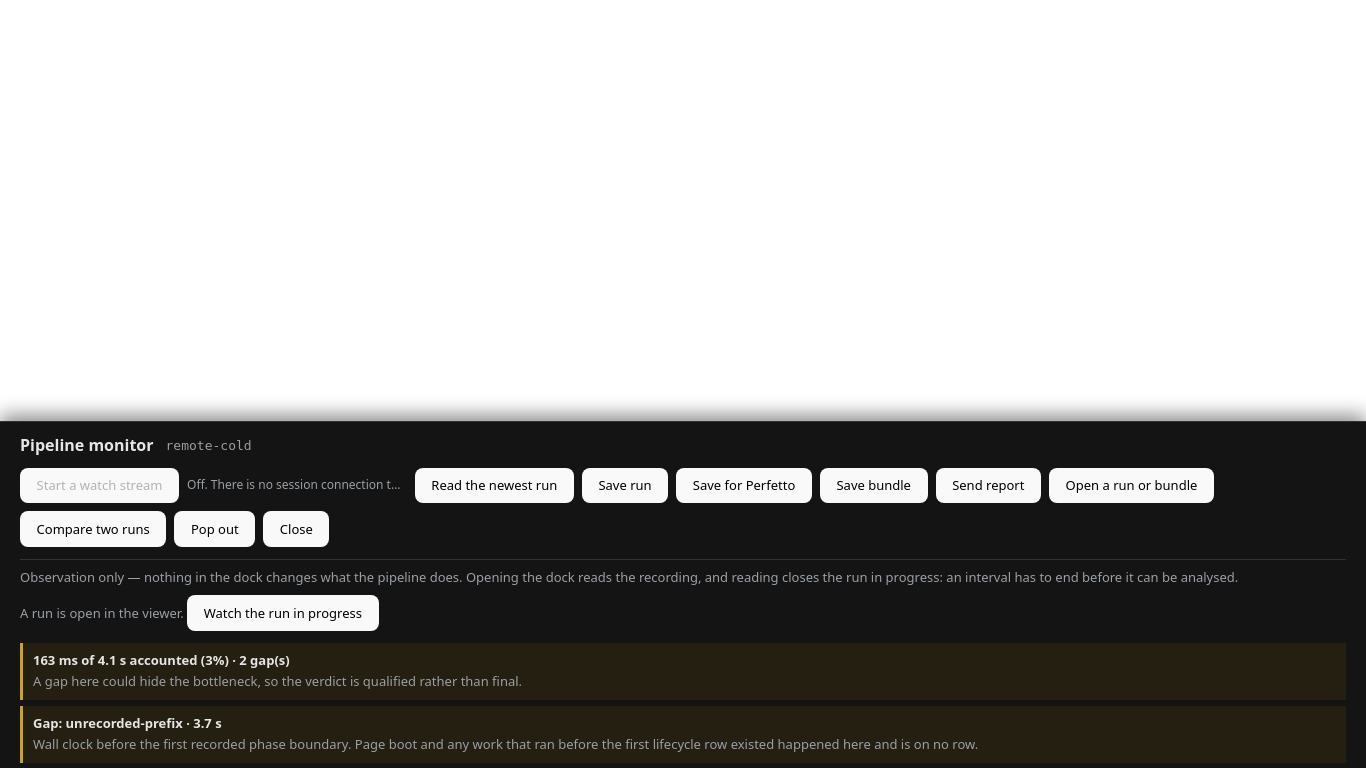
a run that is still open (#937) › offers a run that opens later rather than taking the page from a verdict
Click the button with test id "monitor-watch-next".
click(283, 613)  # box [187,595,378,631]
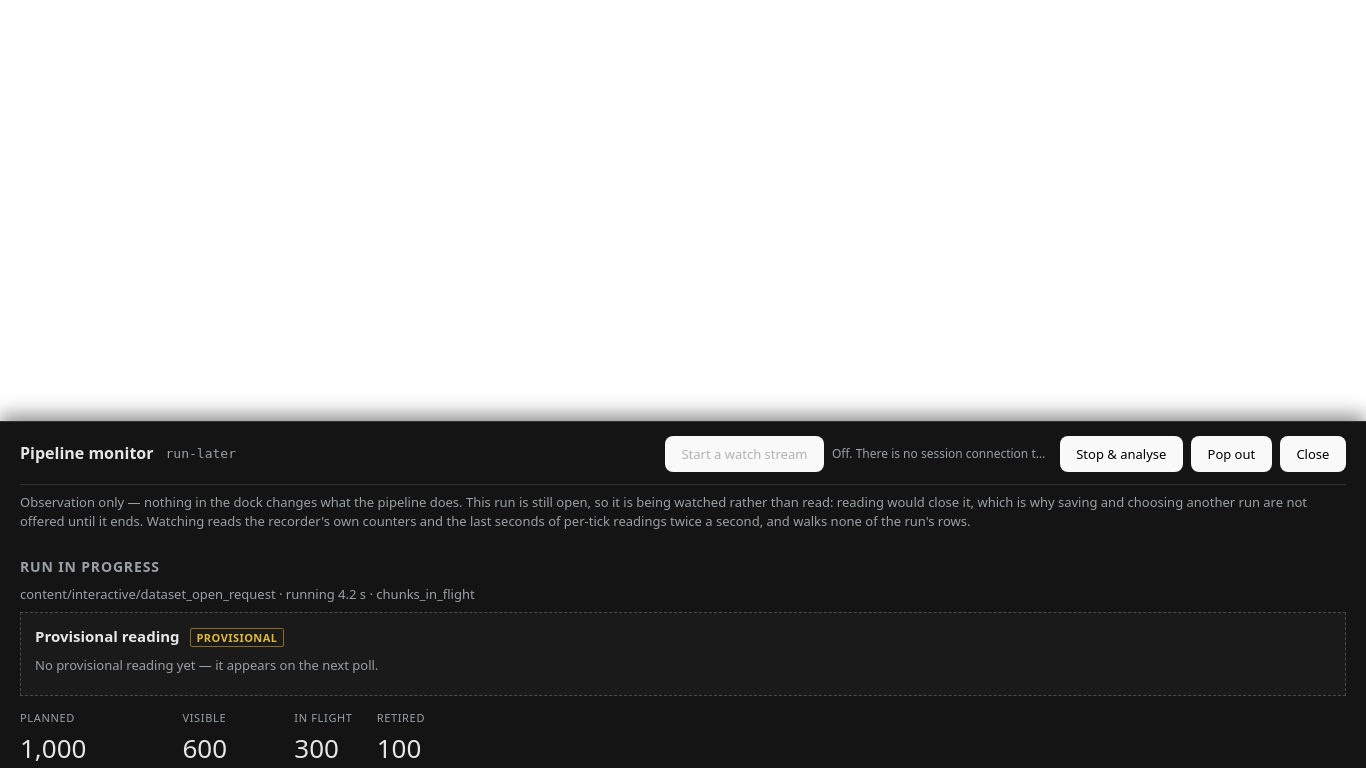
Expected: the text with test id "monitor-run-id" reads "run-later", [166,446,236,461]
